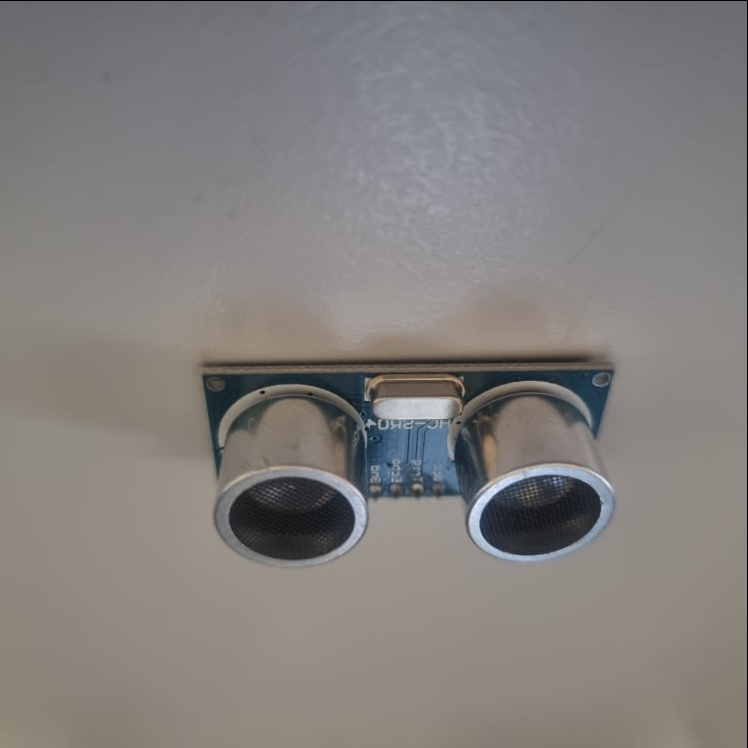SENSOR: (200, 361, 621, 569)
